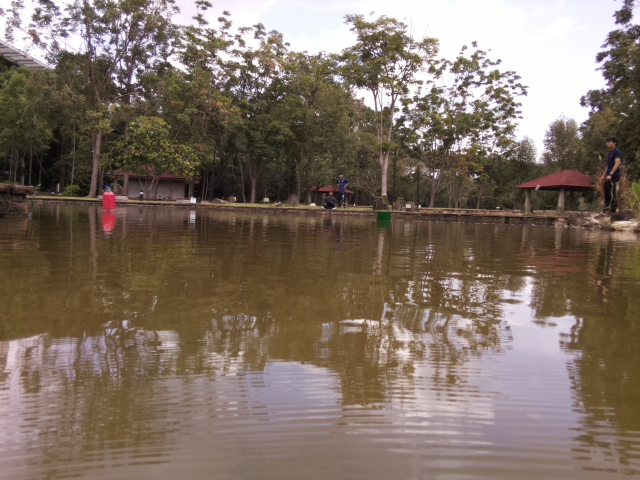obstacle: (376, 210, 392, 224)
